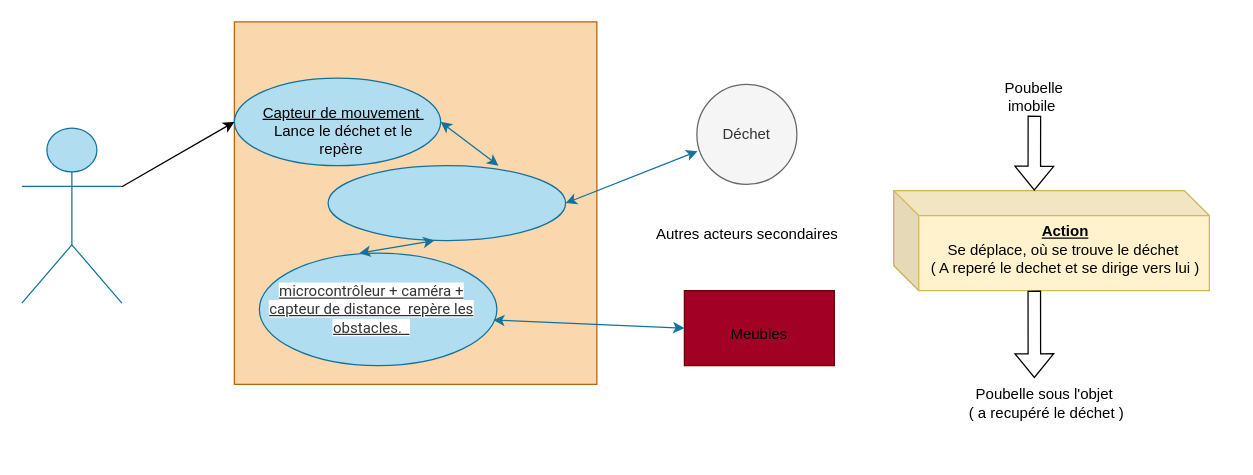
Some shapes in this 1253 by 475 pixel diagram are drawn without their labels. Here are the shapes that lost their labels. From the top down, the box of each, then its label:
(21, 127, 122, 303): Actor
(327, 164, 566, 241): microcontrôleur et servomoteur permettent de repérer le déchet
